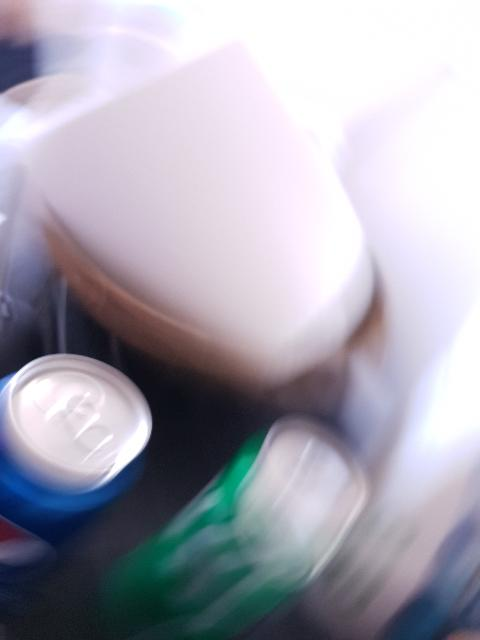pepsi: (0, 352, 160, 580)
sprite: (128, 422, 369, 640)
